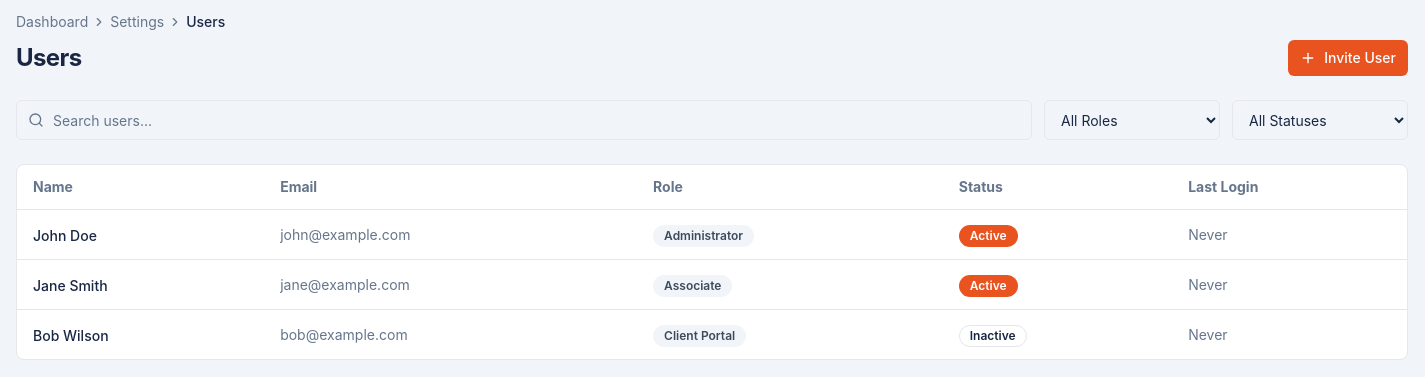
it: UsersView › filters users by role
This screenshot has width=1425, height=377.
Select "Administrator" in the dropdown named "Filter by role" at x=1132, y=120, box [1044,100,1220,140]
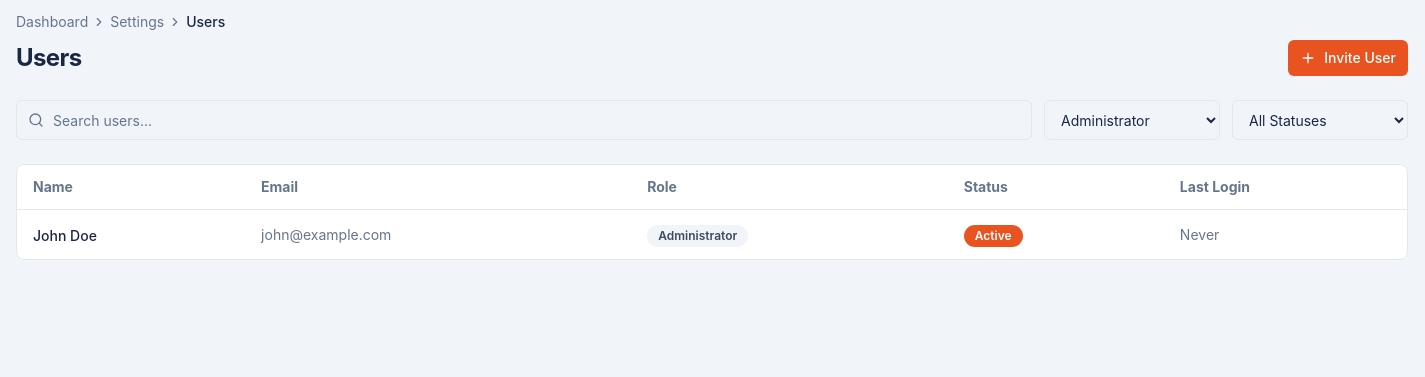
Expected: the link "Jane Smith" is gone
